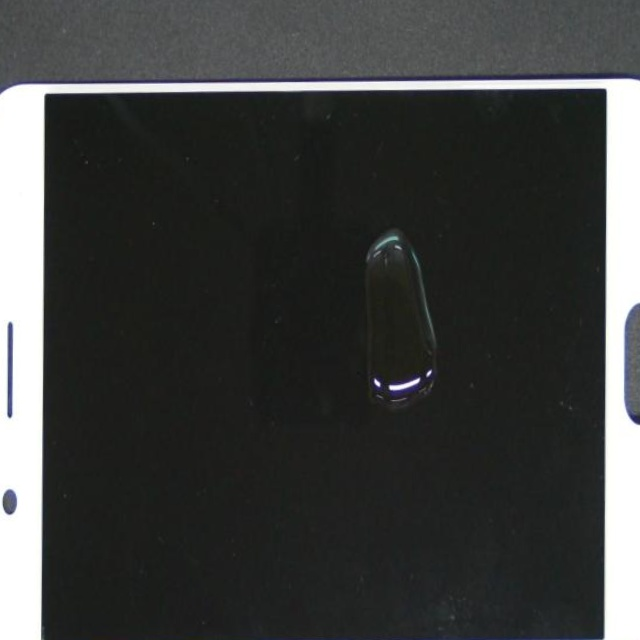oil: (192, 88, 605, 378)
